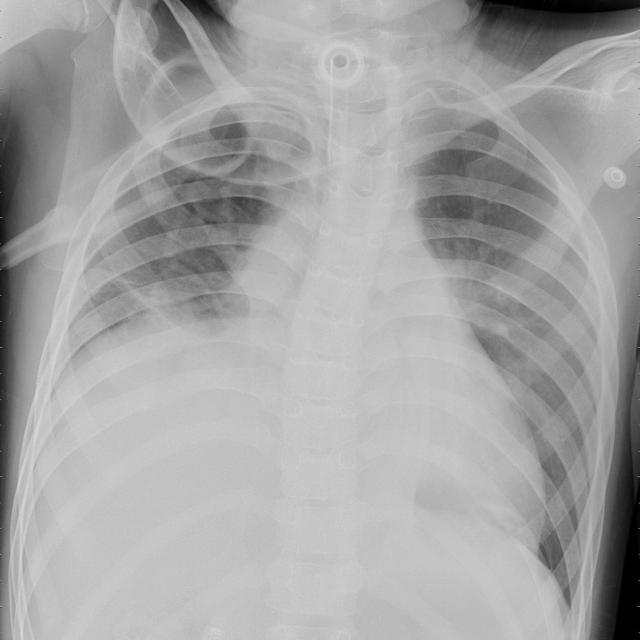low-pneumonia: (53, 217, 197, 345), (448, 256, 536, 340)
